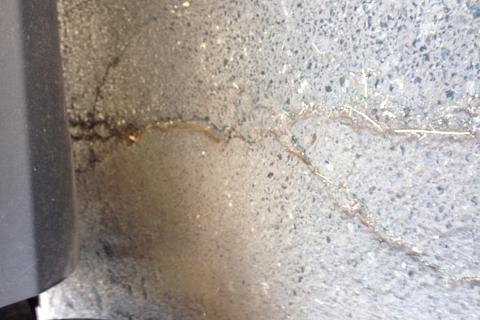crack: (284, 148, 480, 285), (62, 104, 284, 174), (275, 103, 480, 146)
